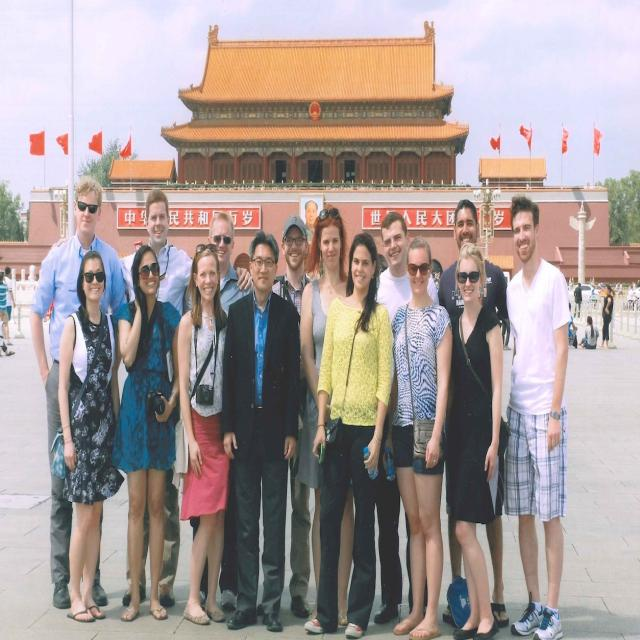body: (47, 185, 255, 609), (29, 174, 130, 614), (302, 228, 397, 640), (218, 227, 302, 634), (436, 198, 511, 628), (502, 189, 572, 640), (47, 246, 126, 626), (381, 233, 454, 639), (439, 238, 512, 639), (182, 210, 254, 616), (108, 240, 184, 624), (372, 212, 438, 627), (170, 239, 240, 627), (296, 204, 358, 631), (257, 213, 313, 622), (598, 282, 616, 350), (0, 269, 13, 346), (302, 198, 320, 242), (2, 266, 16, 322), (584, 314, 600, 349), (567, 301, 578, 349), (500, 316, 510, 352), (573, 281, 582, 319), (615, 278, 639, 292), (430, 258, 442, 284), (0, 310, 6, 357), (376, 252, 389, 273), (589, 276, 596, 296), (577, 336, 586, 348), (568, 276, 574, 287)
